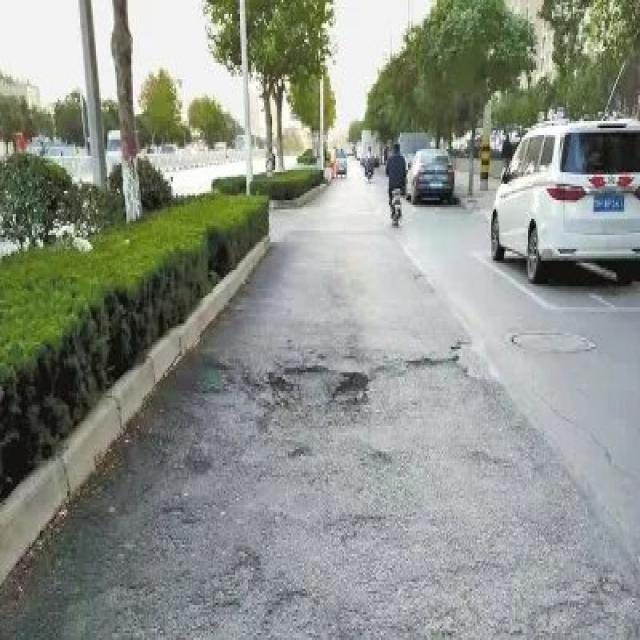pothole: (255, 356, 372, 417), (426, 338, 492, 387)
